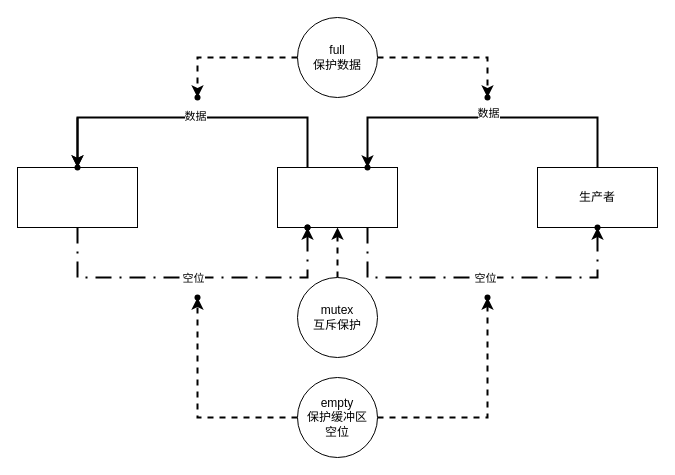
The diagram is 675 pixels wide and 475 high, and some of its shapes have lost their labels. Here are the shapes that lost their labels. From the top down, the box of each, then its label:
(16, 166, 138, 228): 消费者
(276, 166, 398, 228): 缓冲区
